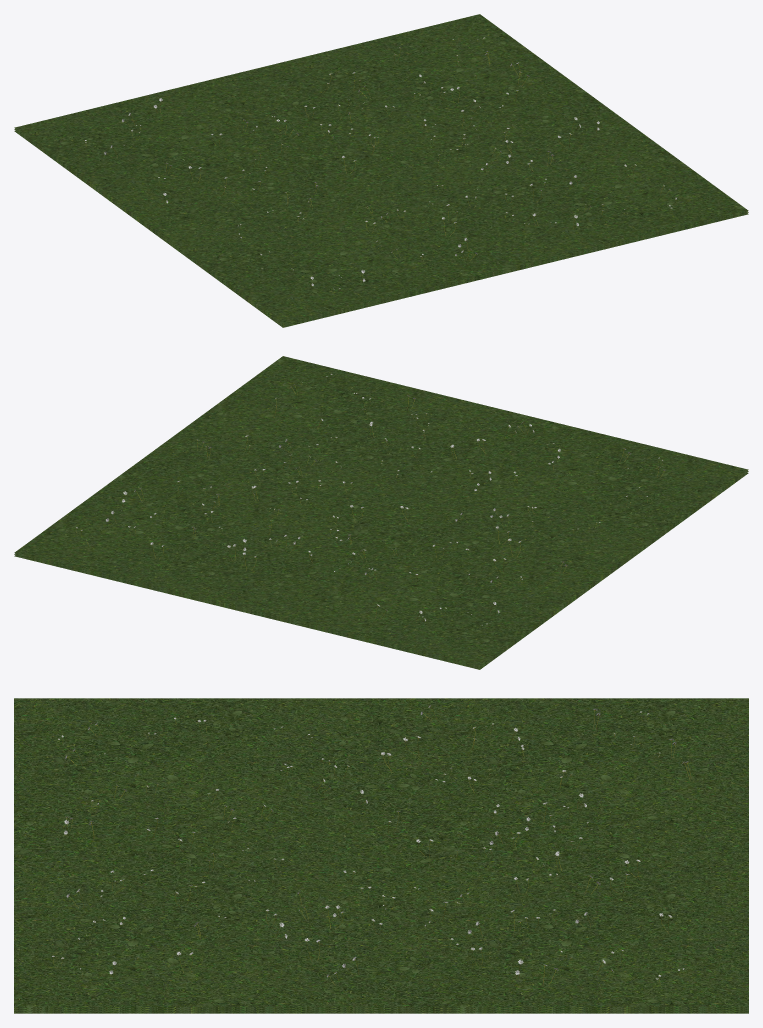
Rendered from grass-min.glb.
The picture shows the model from 3 angles, top to bottom: view 1: azimuth 30°, elevation 25°; view 2: azimuth 150°, elevation 25°; view 3: azimuth 270°, elevation 25°; orthographic projection. The views are drawn at different scales.
Visible parts, largest first — view 1: Grass; view 2: Grass; view 3: Grass.
Part boxes in pixels (x1,y1,x2,y2): Grass: [14, 14, 748, 327]; Grass: [14, 356, 748, 669]; Grass: [14, 698, 748, 1013].
Bounding box in the file's own units: 20 × 0.8277 × 20.
2 materials, 2 textured.
